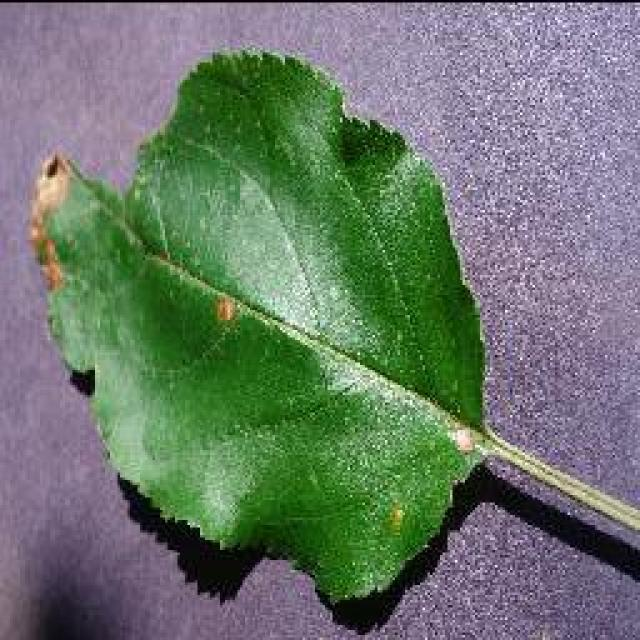Black_rot: (25, 42, 637, 610)
